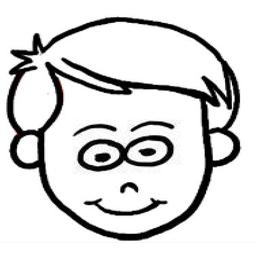ear: (5, 131, 56, 178), (203, 128, 242, 173)
eye: (71, 136, 125, 179), (125, 135, 175, 169)
eyebrow: (67, 120, 124, 137), (125, 118, 182, 133)
mouth: (80, 196, 176, 218)
nose: (115, 178, 142, 197)
